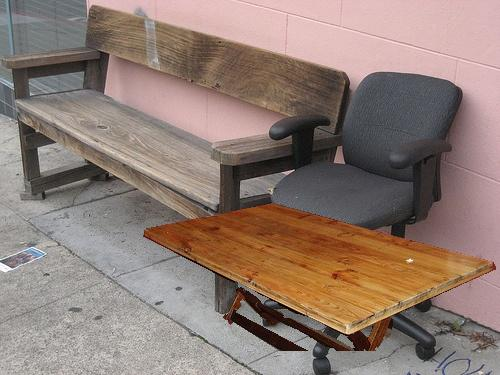tampered: (144, 204, 496, 351)
